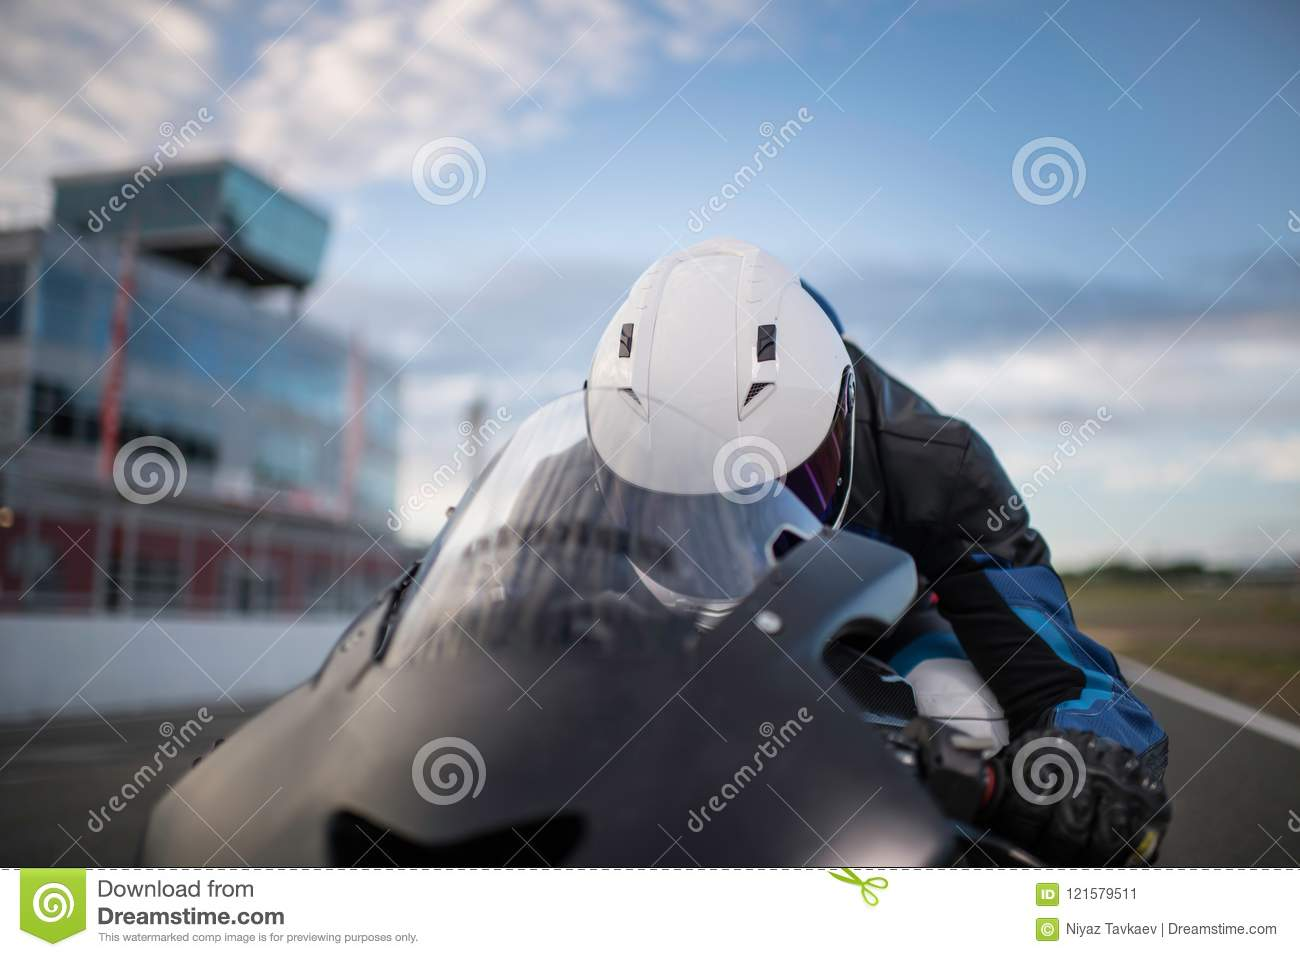helmet: (580, 251, 863, 620)
